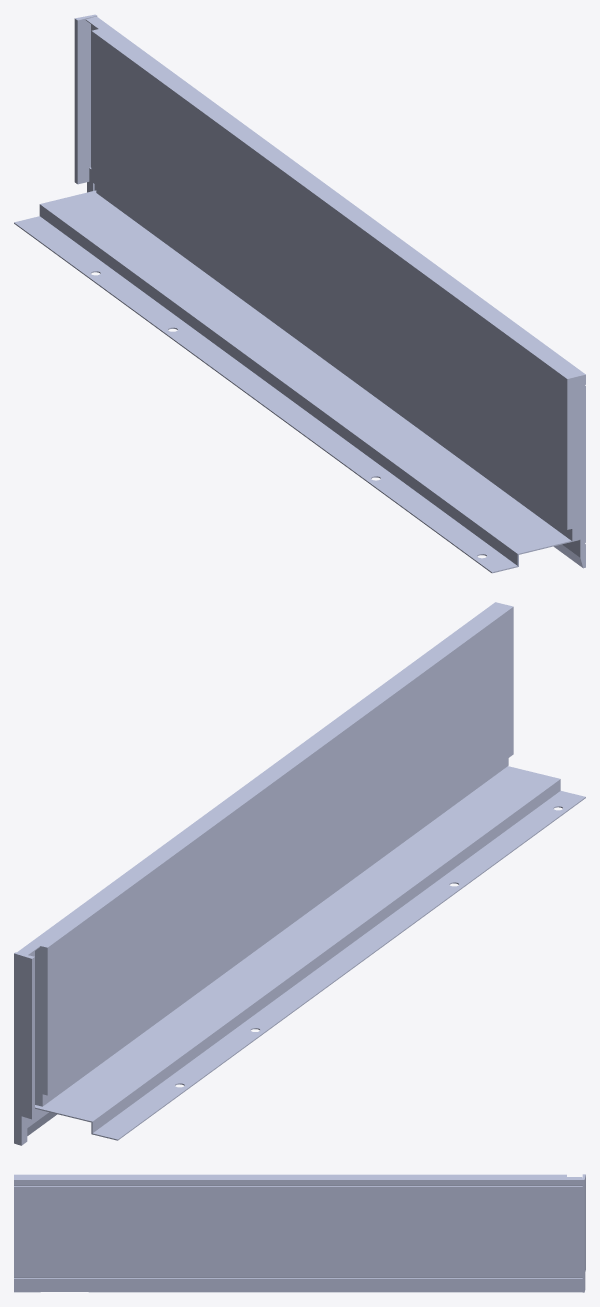
The model's file is lg-kava-K600-m.glb.
The picture shows the model from 3 angles, top to bottom: view 1: azimuth 30°, elevation 25°; view 2: azimuth 150°, elevation 25°; view 3: azimuth 270°, elevation 25°; orthographic projection. The views are drawn at different scales.
Parts seen in each view (by area): view 1: 42526447; view 2: 42526447; view 3: 42526447.
Boxes of the visible parts, x1,y1,x2,y2 form: 42526447: (14,14,585,573); 42526447: (14,602,585,1145); 42526447: (14,1174,585,1292).
Bounding box in the file's own units: 0.0653 × 0.1292 × 0.5935.
